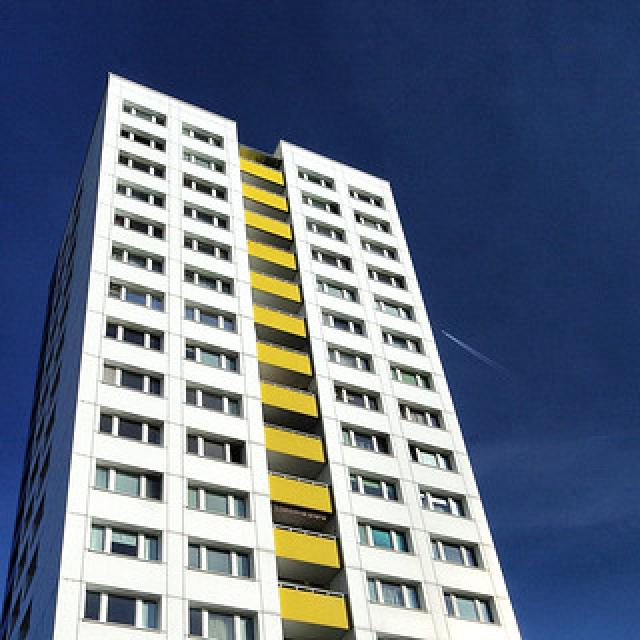building: (5, 68, 527, 640)
